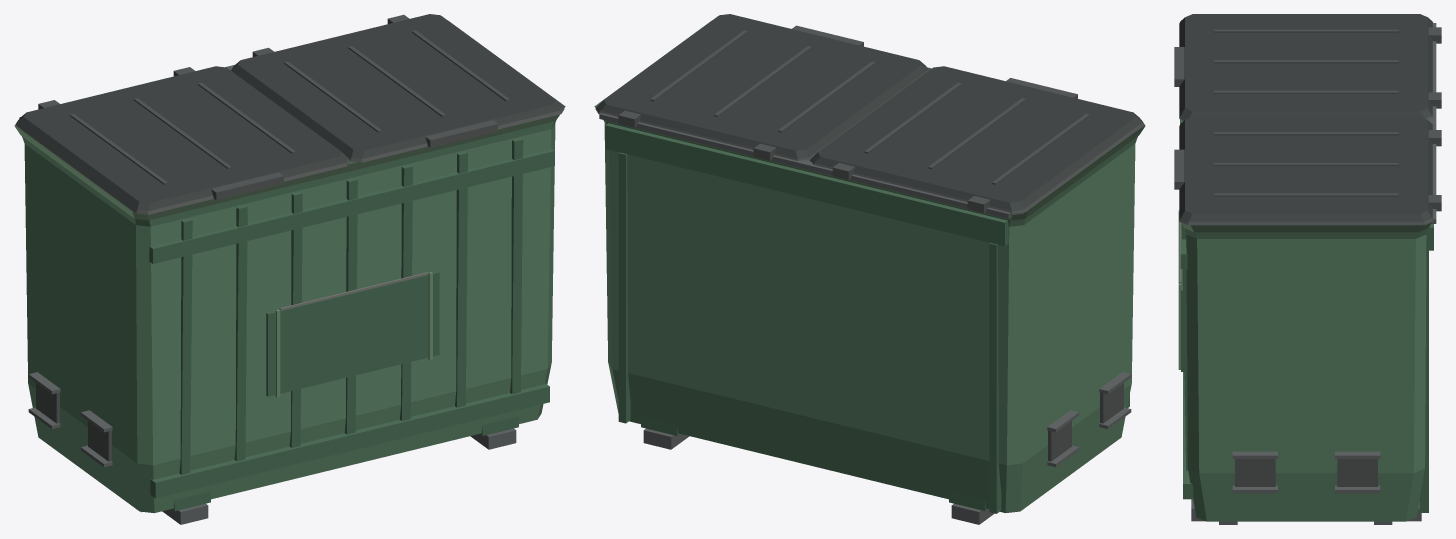
File: DumpsterBin001.glb
The picture shows the model from 3 angles, left to right: view 1: azimuth 30°, elevation 25°; view 2: azimuth 150°, elevation 25°; view 3: azimuth 270°, elevation 25°; orthographic projection.
Visible parts, largest first — view 1: SteelBody, ReinforcingSteel, LeftBlackLidShell, RightBlackLidShell, LeftBlackLidRibs, TopRolledRim, RightBlackLidRibs, SkidsAndHardware, LiftPockets; view 2: SteelBody, LeftBlackLidShell, RightBlackLidShell, ReinforcingSteel, SkidsAndHardware, LeftBlackLidRibs, RightBlackLidRibs, TopRolledRim, LiftPockets; view 3: SteelBody, RightBlackLidShell, LeftBlackLidShell, RightBlackLidRibs, LeftBlackLidRibs, ReinforcingSteel, SkidsAndHardware, TopRolledRim, LiftPockets.
Part boxes in pixels (x1,y1,x2,y2): SteelBody: [22, 121, 555, 513]; ReinforcingSteel: [149, 138, 554, 511]; LeftBlackLidShell: [17, 66, 348, 211]; RightBlackLidShell: [231, 14, 562, 158]; LeftBlackLidRibs: [16, 67, 350, 214]; TopRolledRim: [15, 112, 561, 397]; RightBlackLidRibs: [231, 14, 564, 162]; SkidsAndHardware: [19, 65, 516, 524]; LiftPockets: [36, 383, 111, 461]; SteelBody: [604, 121, 1137, 513]; LeftBlackLidShell: [811, 66, 1142, 211]; RightBlackLidShell: [597, 14, 928, 158]; ReinforcingSteel: [605, 123, 1129, 513]; SkidsAndHardware: [599, 113, 1131, 524]; LeftBlackLidRibs: [810, 78, 1143, 214]; RightBlackLidRibs: [595, 25, 928, 160]; TopRolledRim: [598, 112, 1144, 220]; LiftPockets: [1048, 383, 1123, 461]; SteelBody: [1185, 228, 1427, 521]; RightBlackLidShell: [1180, 116, 1432, 221]; LeftBlackLidShell: [1180, 14, 1432, 118]; RightBlackLidRibs: [1174, 124, 1441, 225]; LeftBlackLidRibs: [1174, 21, 1441, 120]; ReinforcingSteel: [1180, 222, 1433, 512]; SkidsAndHardware: [1191, 23, 1436, 524]; TopRolledRim: [1178, 210, 1432, 369]; LiftPockets: [1235, 459, 1377, 486].
Bounding box in the file's own units: 3.57 × 2.55 × 1.88.
